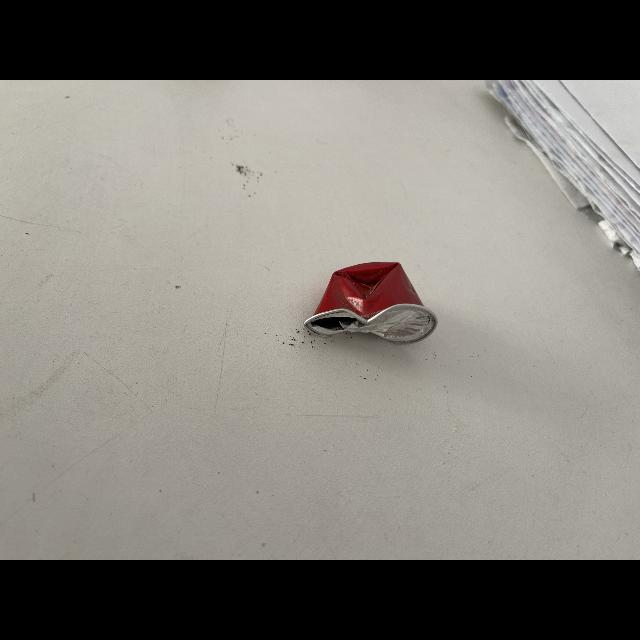damaged_capsule: (301, 244, 464, 350)
